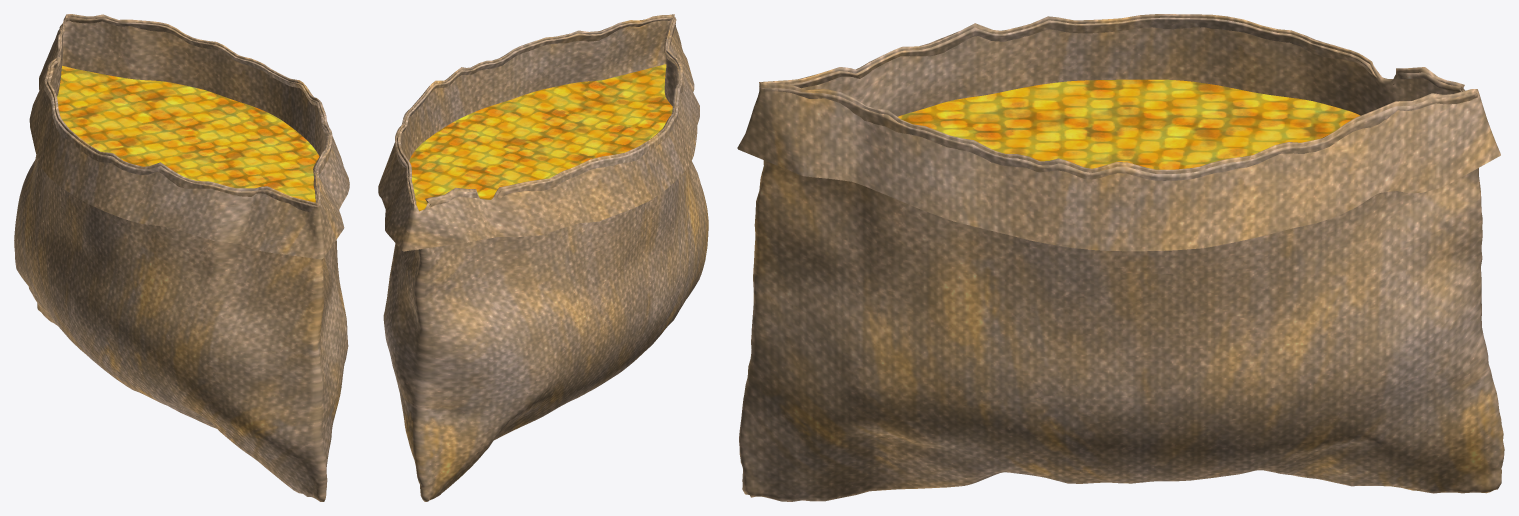
File: House_IngredientBagOpen_v01.fbx
3 renders of one model, left to right at view 1: azimuth 30°, elevation 25°; view 2: azimuth 150°, elevation 25°; view 3: azimuth 270°, elevation 25°, orthographic. The views are drawn at different scales.
Visible parts, largest first — view 1: IngredientBagOpen_Body, IngredientBagOpen_Inside; view 2: IngredientBagOpen_Body, IngredientBagOpen_Inside; view 3: IngredientBagOpen_Body, IngredientBagOpen_Inside.
Part boxes in pixels (box(x1,y1,x2,y2)): IngredientBagOpen_Body: box(14, 14, 349, 501); IngredientBagOpen_Inside: box(57, 66, 319, 202); IngredientBagOpen_Body: box(378, 14, 708, 501); IngredientBagOpen_Inside: box(409, 64, 672, 211); IngredientBagOpen_Body: box(737, 14, 1504, 501); IngredientBagOpen_Inside: box(898, 79, 1360, 169).
Bounding box in the file's own units: 36.77 × 69.59 × 42.91.
1 material, 1 textured.
